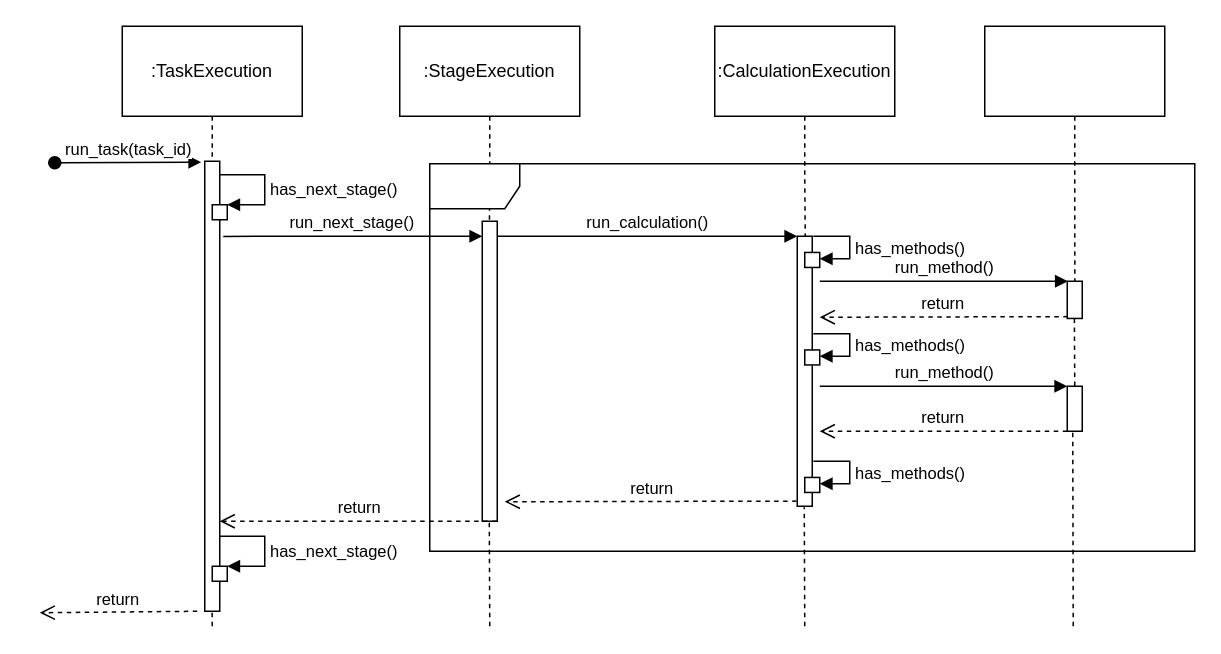
Some shapes in this 1221 by 654 pixel diagram are drawn without their labels. The centre of each missing label's shape, as x and y in pixels:
:MethodExecution: pixel 1074 70
loop: pixel 811 356
